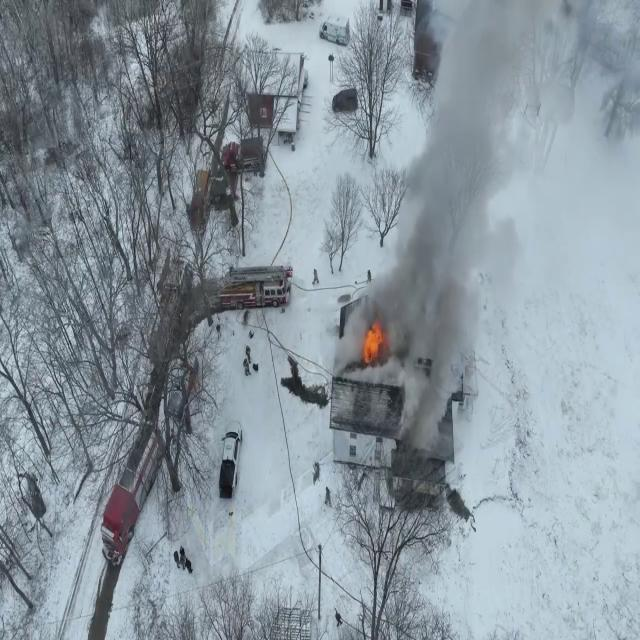Fire: (360, 312, 390, 368)
Smoke: (363, 0, 640, 568)
